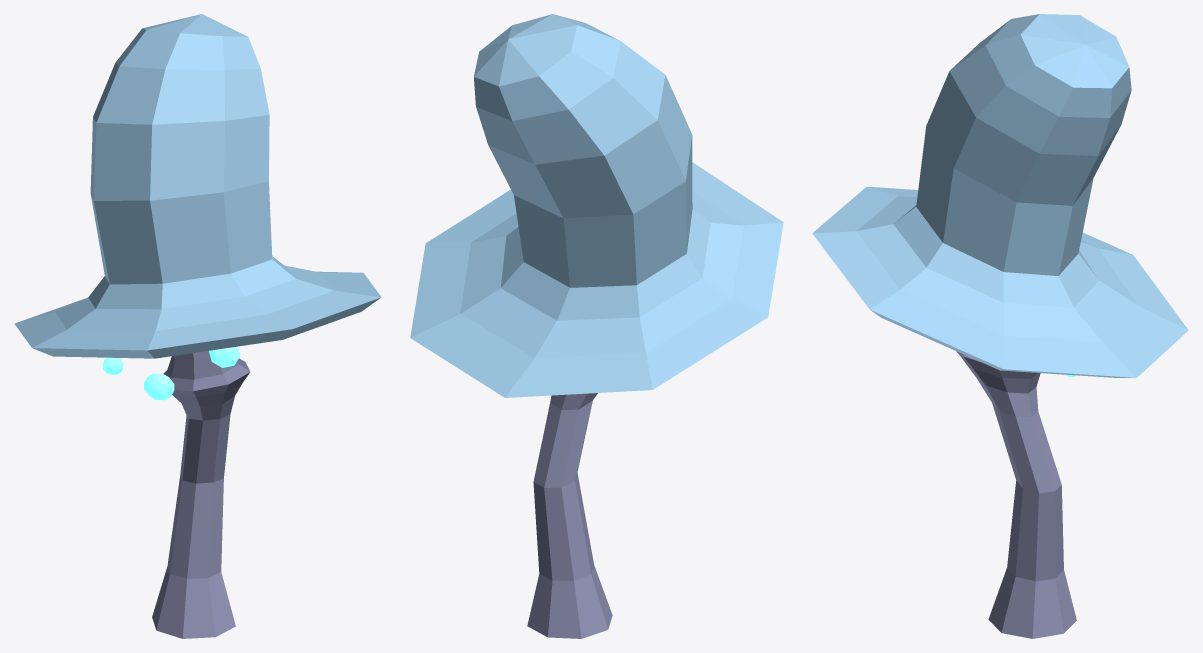
The model's file is Tree_09_Var_02.fbx.
3 renders of one model, left to right at view 1: azimuth 30°, elevation 25°; view 2: azimuth 150°, elevation 25°; view 3: azimuth 270°, elevation 25°, orthographic. The views are drawn at different scales.
Visible parts, largest first — view 1: Tree_09_Var_02; view 2: Tree_09_Var_02; view 3: Tree_09_Var_02.
Boxes of the visible parts, x1=… form: Tree_09_Var_02: x1=14, y1=14, x2=381, y2=638; Tree_09_Var_02: x1=410, y1=14, x2=783, y2=638; Tree_09_Var_02: x1=812, y1=14, x2=1188, y2=638.
Size of the model in its own units: 1.94 by 3.42 by 2.02.
